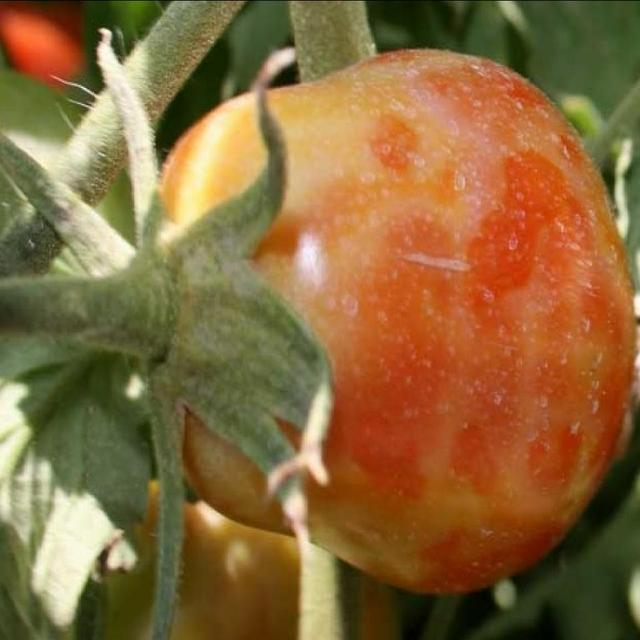Spotted wilt Virus Fruit: (80, 37, 422, 394)
